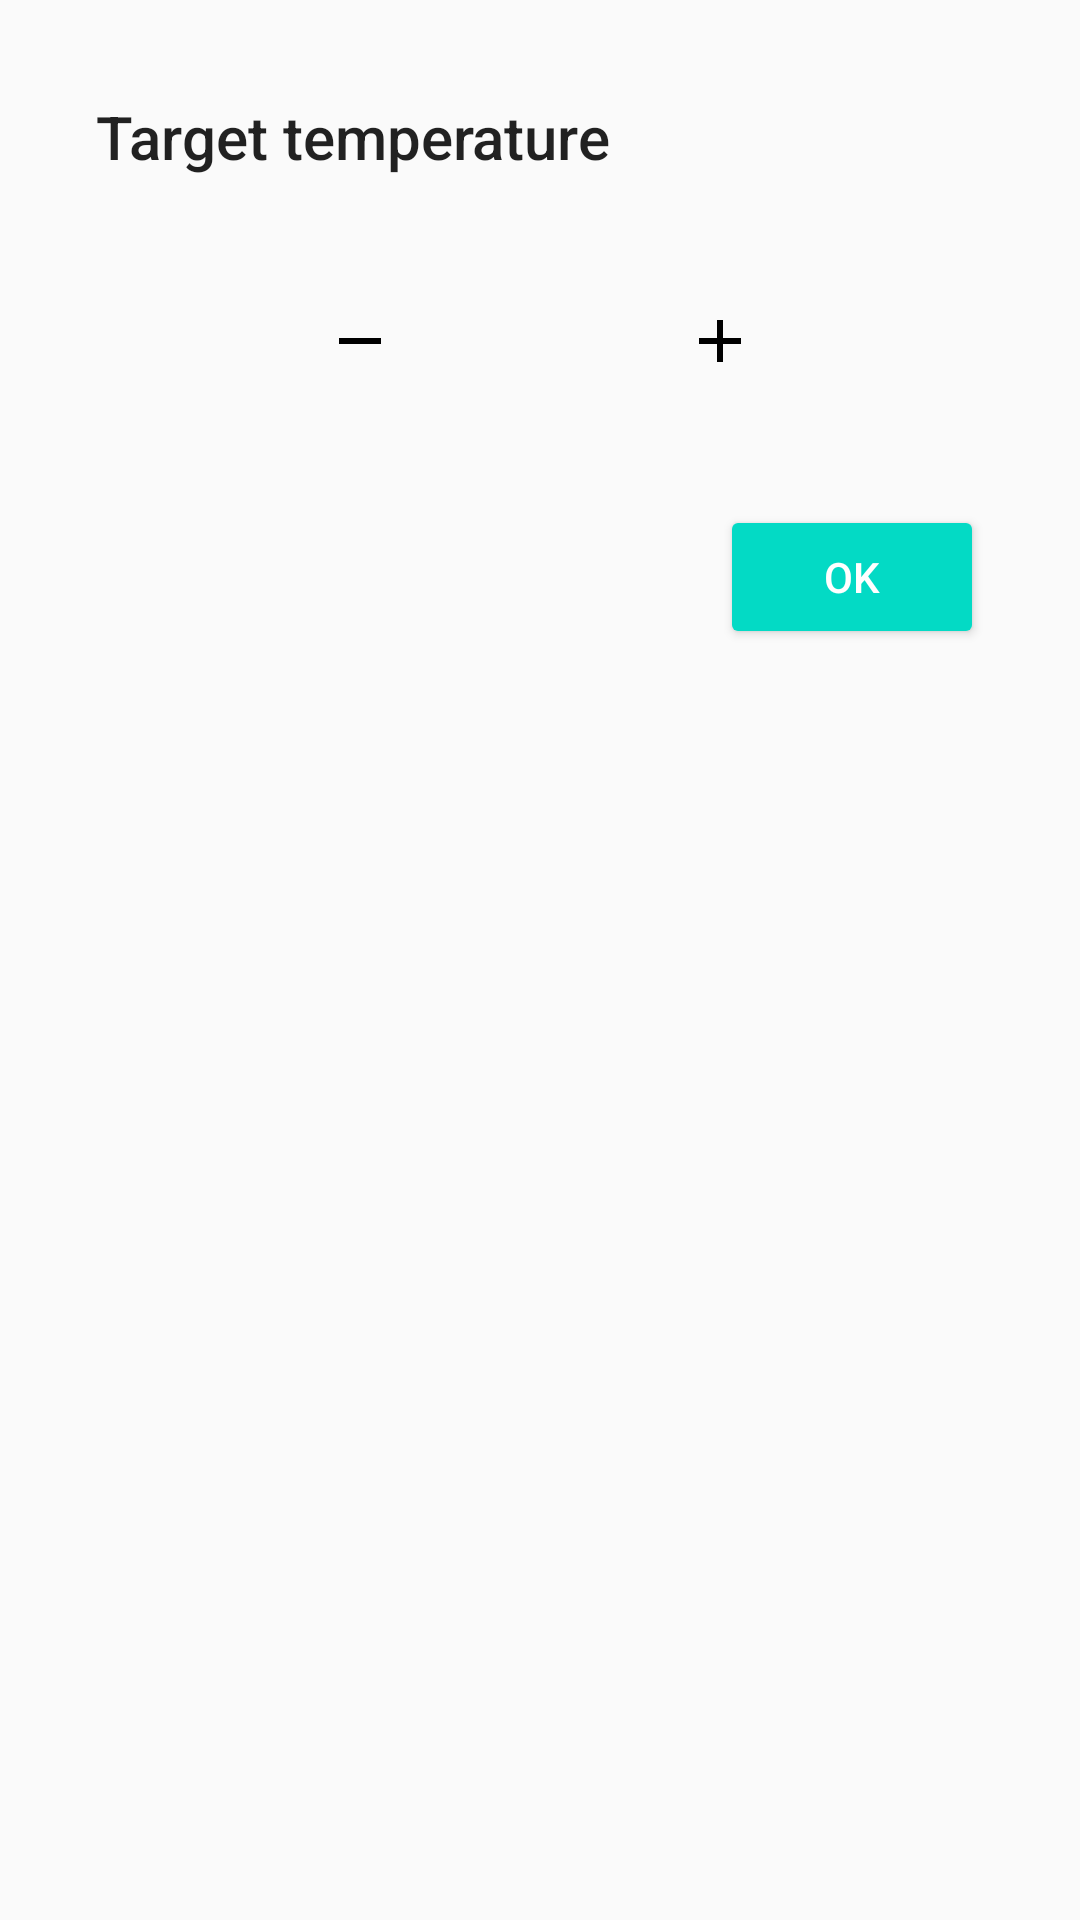

Icon click points for this 1080w x 1920h phone screenshot, format (x=x, y=y):
Increase temperature: (x=720, y=341)
